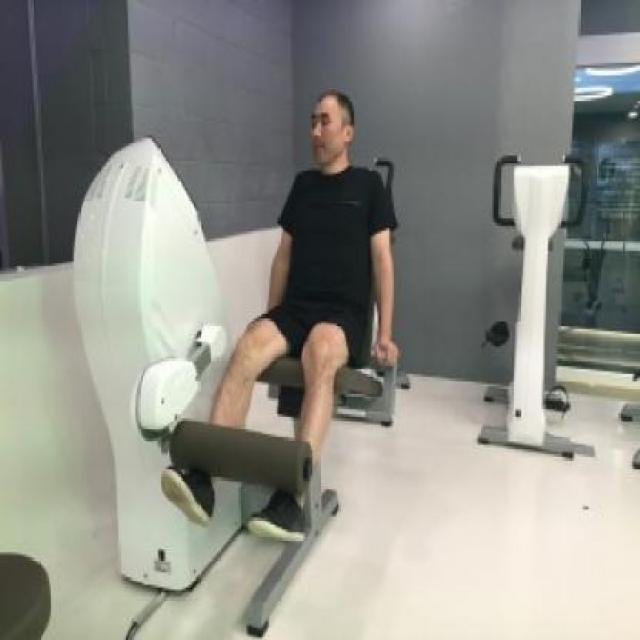leg extension: (76, 69, 430, 640)
